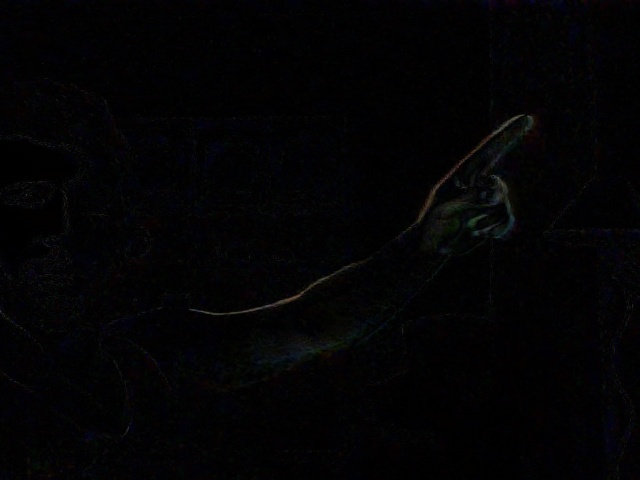hand_po: (409, 97, 555, 268)
